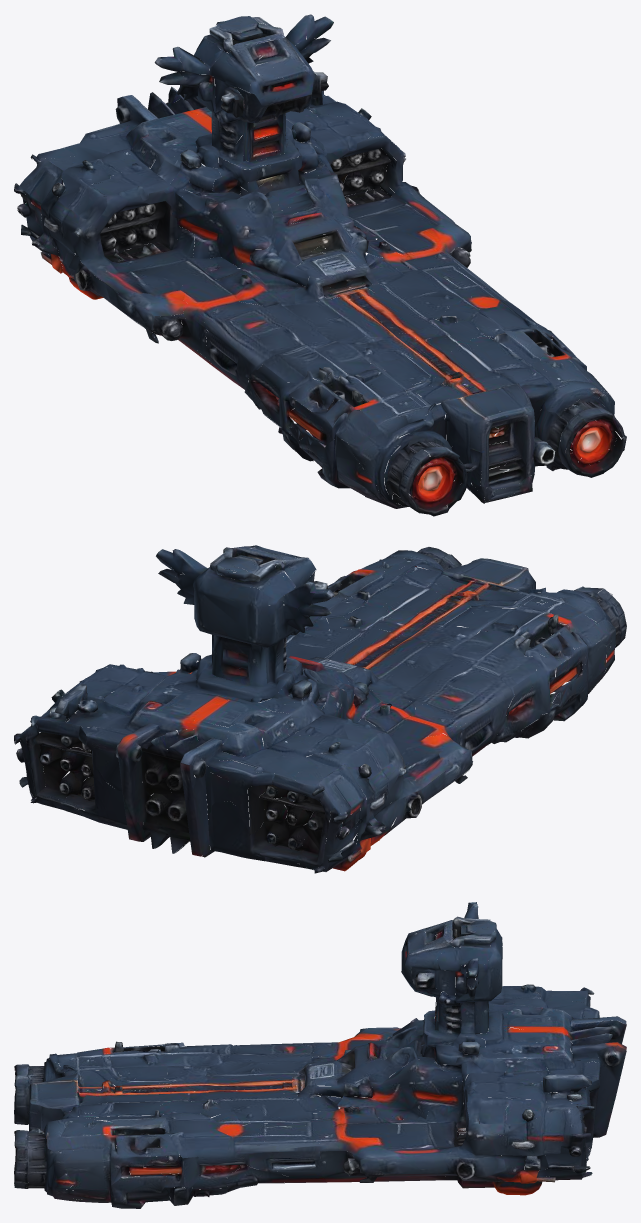
The model's file is carrier.glb.
3 renders of one model, top to bottom at view 1: azimuth 30°, elevation 25°; view 2: azimuth 150°, elevation 25°; view 3: azimuth 270°, elevation 25°, orthographic. The views are drawn at different scales.
Visible parts, largest first — view 1: tripo_node_7b4ba789-a826-4f5e-9246-935a27d656c1; view 2: tripo_node_7b4ba789-a826-4f5e-9246-935a27d656c1; view 3: tripo_node_7b4ba789-a826-4f5e-9246-935a27d656c1.
Boxes of the visible parts, x1,y1,x2,y2 form: tripo_node_7b4ba789-a826-4f5e-9246-935a27d656c1: (14, 14, 626, 516); tripo_node_7b4ba789-a826-4f5e-9246-935a27d656c1: (14, 545, 626, 873); tripo_node_7b4ba789-a826-4f5e-9246-935a27d656c1: (14, 902, 626, 1208).
Bounding box in the file's own units: 87.66 × 68.64 × 160.
Materials: 1 (1 with a texture image).
